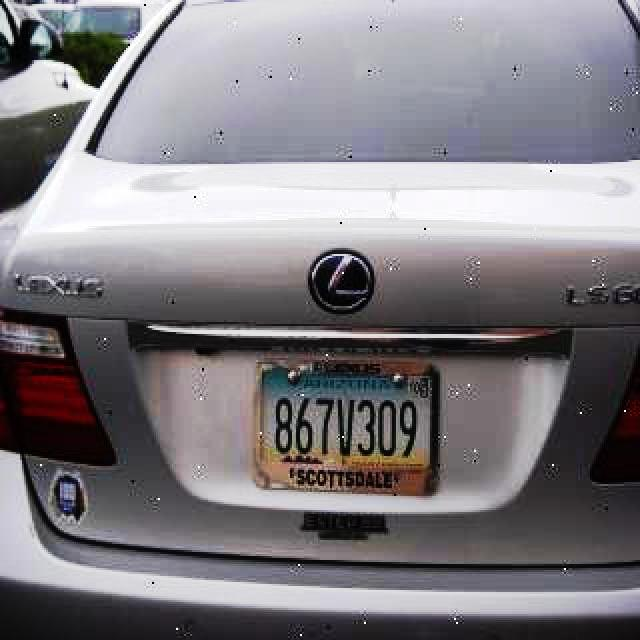license_plate: (253, 361, 437, 499)
